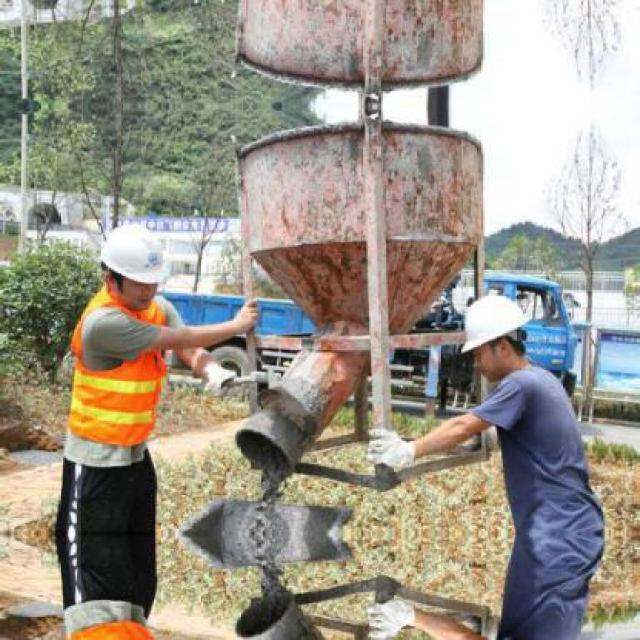Reflective-Jacket: (58, 292, 180, 459)
Safety-Helmet: (91, 216, 178, 290), (452, 288, 537, 358)
